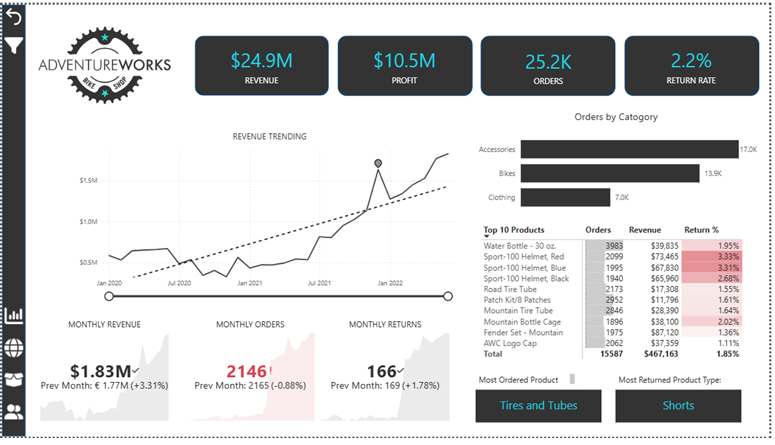

The page's visual inventory and layout, read from the dashboard file:
{"tool":"powerbi","page":{"name":"Exec Dashboard","canvas":[1280,720],"ordinal":0},"visuals":[{"type":"shape","box":[321.6,52.1,223.5,100],"z":0},{"type":"actionButton","box":[0,498.8,39.4,40.3],"z":0,"group":"g1"},{"type":"image","title":"AW Logo","box":[21.6,33.3,300,135.3],"z":1000},{"type":"actionButton","box":[0,551.9,39.4,40.3],"z":1000,"group":"g1"},{"type":"shape","title":"Left nav","box":[0,0,39.2,719.6],"z":2000},{"type":"actionButton","box":[0,605.1,39.4,40.3],"z":2000,"group":"g1"},{"type":"shape","box":[559.3,51.9,225.1,100.4],"z":3000},{"type":"actionButton","box":[0,658.2,39.4,40.3],"z":3000,"group":"g1"},{"type":"shape","box":[798.6,51.9,225.1,100.4],"z":4000},{"type":"shape","box":[1037.9,51.9,225.1,100.4],"z":5000},{"type":"card","fields":{"Values":["Measure Table.Total Revenue"]},"box":[319.6,51,225.5,100],"z":6000},{"type":"card","fields":{"Values":["Measure Table.Total Profit"]},"box":[558.8,51,225.5,100],"z":7000},{"type":"card","fields":{"Values":["Measure Table.Total Orders"]},"box":[798,52.9,225.5,100],"z":8000},{"type":"card","fields":{"Values":["Measure Table.Return Rate"]},"box":[1037.3,51,225.5,100],"z":9000},{"type":"lineChart","title":"REVENUE TRENDING","fields":{"Category":["Calendar Lookup.Start of Month"],"Y":["Measure Table.Total Revenue"]},"box":[123.1,210.2,646.5,287.2],"z":10000},{"type":"kpi","title":"MONTHLY REVENUE","fields":{"Goal":["Measure Table.Previous Month Revenue"],"Indicator":["Measure Table.Total Revenue"],"TrendLine":["Calendar Lookup.Start of Month"]},"box":[58.3,523,225.1,174.9],"z":11000},{"type":"kpi","title":"MONTHLY ORDERS","fields":{"Goal":["Measure Table.Previous Month orders"],"Indicator":["Measure Table.Total Orders"],"TrendLine":["Calendar Lookup.Start of Month"]},"box":[301.2,523,225.1,174.9],"z":12000},{"type":"kpi","title":"MONTHLY RETURNS","fields":{"Goal":["Measure Table.Previous Month Returns"],"Indicator":["Measure Table.Total Returns"],"TrendLine":["Calendar Lookup.Start of Month"]},"box":[527.5,523,225.1,174.9],"z":13000},{"type":"barChart","title":"Orders by Catogory","fields":{"Category":["Product Categories Lookup.CategoryName"],"Y":["Measure Table.Total Orders"]},"box":[785.5,175.8,479,183.9],"z":14000},{"type":"pivotTable","fields":{"Rows":["Product Lookup.ProductName"],"Values":["Measure Table.Total Orders","Measure Table.Total Revenue","Measure Table.Return Rate"]},"box":[793.5,359.7,479,243.5],"z":15000},{"type":"card","fields":{"Values":["Min(Product Subcategories Lookup.SubcategoryName)"]},"box":[790.3,641.9,209.7,54.8],"z":16000},{"type":"textbox","box":[790.2,610.4,170,30.8],"z":17000},{"type":"actionButton","box":[0,44.8,39.4,45.7],"z":18000},{"type":"card","fields":{"Values":["Min(Product Subcategories Lookup.SubcategoryName)"]},"box":[1022.6,641.9,209.7,54.8],"z":19000},{"type":"textbox","box":[1023.4,610.4,183,30.8],"z":20000},{"type":"actionButton","box":[0,0,38.9,38.9],"z":20500},{"type":"group","id":"g1","title":"Page navigation","box":[0,498.8,39.4,199.7],"z":23000}]}

Visuals, with their boxes in screenshot pixels (x1, y1, x2, y2), scaled from the page's 1280x720 canvas onto the 775x445 screenshot:
shape: detection(195, 32, 330, 94)
actionButton: detection(0, 308, 24, 333)
"AW Logo" image: detection(13, 21, 195, 104)
actionButton: detection(0, 341, 24, 366)
"Left nav" shape: detection(0, 0, 24, 444)
actionButton: detection(0, 374, 24, 399)
shape: detection(339, 32, 475, 94)
actionButton: detection(0, 407, 24, 432)
shape: detection(484, 32, 620, 94)
shape: detection(628, 32, 765, 94)
card - Measure Table.Total Revenue: detection(194, 32, 330, 93)
card - Measure Table.Total Profit: detection(338, 32, 475, 93)
card - Measure Table.Total Orders: detection(483, 33, 620, 95)
card - Measure Table.Return Rate: detection(628, 32, 765, 93)
"REVENUE TRENDING" lineChart: detection(75, 130, 466, 307)
"MONTHLY REVENUE" kpi: detection(35, 323, 172, 431)
"MONTHLY ORDERS" kpi: detection(182, 323, 319, 431)
"MONTHLY RETURNS" kpi: detection(319, 323, 456, 431)
"Orders by Catogory" barChart: detection(476, 109, 766, 222)
pivotTable - Product Lookup.ProductName x Measure Table.Total Orders: detection(480, 222, 770, 373)
card - Min(Product Subcategories Lookup.SubcategoryName): detection(479, 397, 605, 431)
textbox: detection(478, 377, 581, 396)
actionButton: detection(0, 28, 24, 56)
card - Min(Product Subcategories Lookup.SubcategoryName): detection(619, 397, 746, 431)
textbox: detection(620, 377, 730, 396)
actionButton: detection(0, 0, 24, 24)
"Page navigation" group: detection(0, 308, 24, 432)
